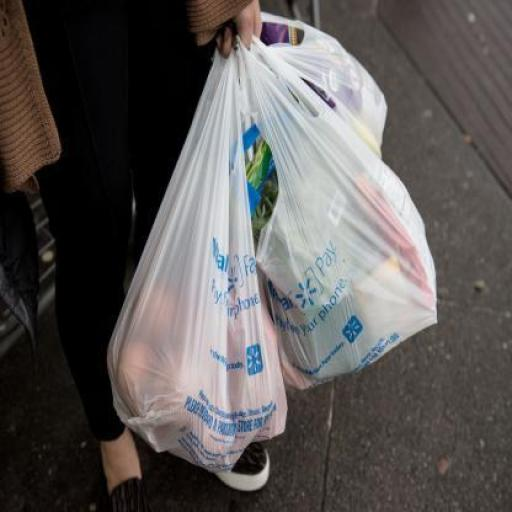plastic bag: (102, 22, 291, 491), (226, 48, 444, 409), (251, 10, 392, 148)
